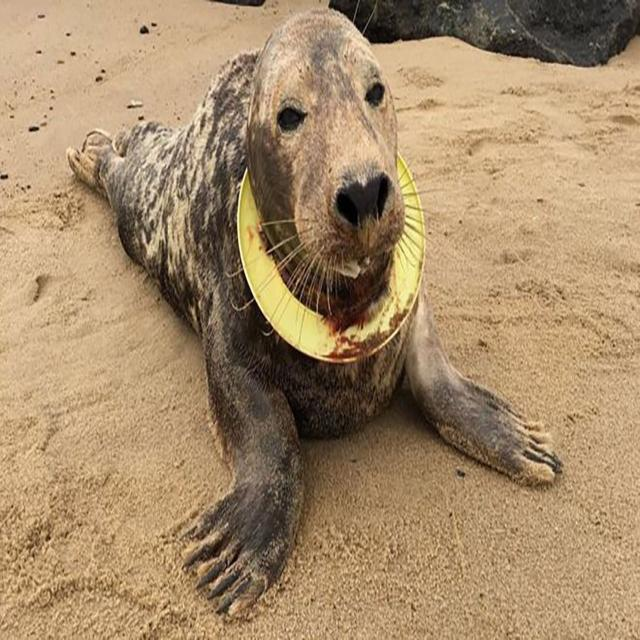WaterDog: (65, 5, 556, 615)
